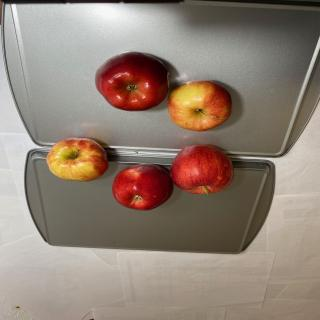Apple: (94, 51, 170, 111), (167, 80, 232, 132), (170, 144, 234, 195), (112, 163, 174, 210), (46, 137, 108, 182)
